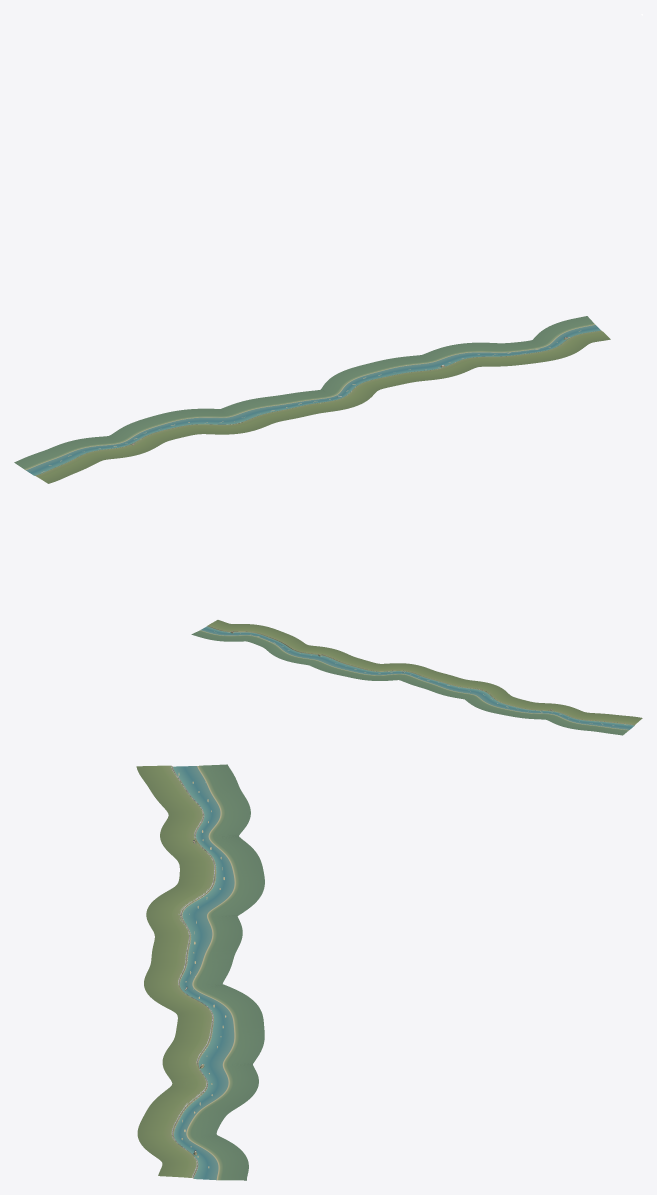
The model's file is loire.glb.
The picture shows the model from 3 angles, top to bottom: view 1: azimuth 30°, elevation 25°; view 2: azimuth 150°, elevation 25°; view 3: azimuth 270°, elevation 25°; orthographic projection. The views are drawn at different scales.
Visible parts, largest first — view 1: Peaks, Sea; view 2: Peaks, Sea; view 3: Peaks, Sea.
Part boxes in pixels (box(x1,y1,x2,y2)): Peaks: box(14, 316, 595, 472); Sea: box(26, 325, 600, 475); Peaks: box(191, 630, 629, 735); Sea: box(200, 626, 634, 729); Peaks: box(178, 764, 264, 1180); Sea: box(173, 766, 234, 1180).
Bounding box in the file's own units: 15176 × 3964 × 4709.
